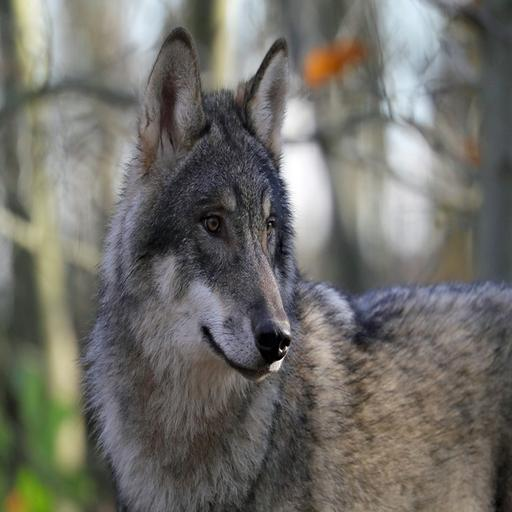Wolf: (70, 28, 512, 512)
